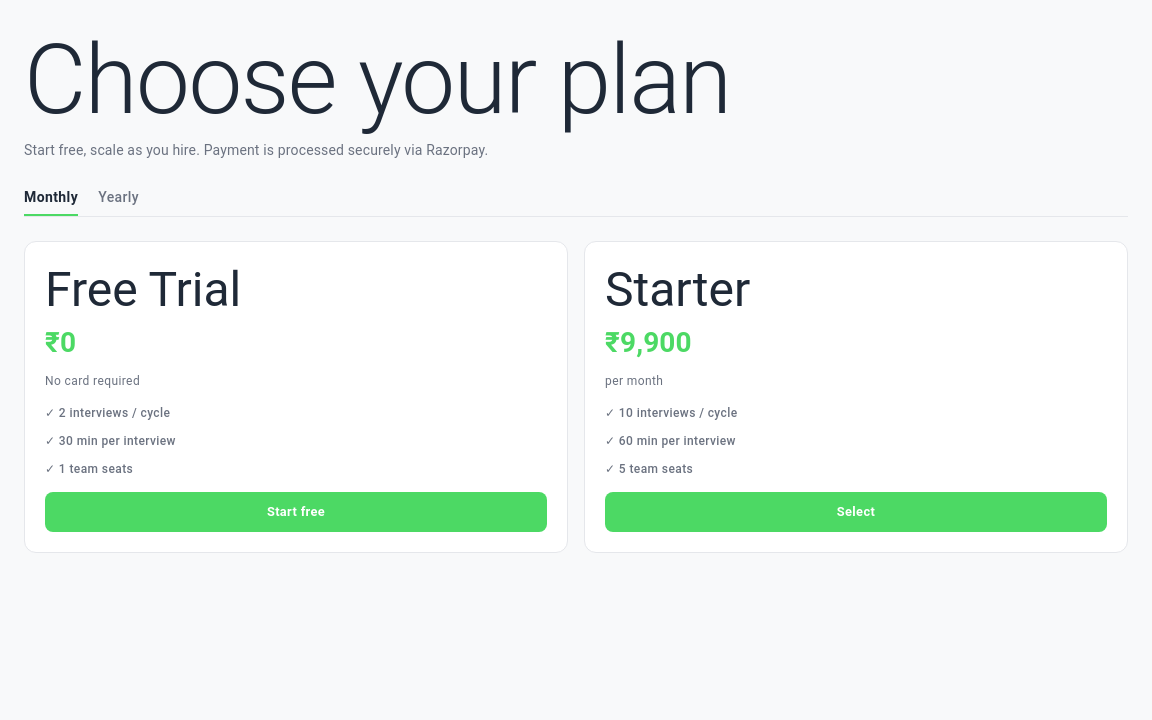
Scenario: PlansPage › switching to the yearly tab shows yearly plans with features
Expected: the heading "Starter" is shown, [605, 262, 750, 318]
Click the tab "Yearly": (119, 198) [98, 180, 139, 216]
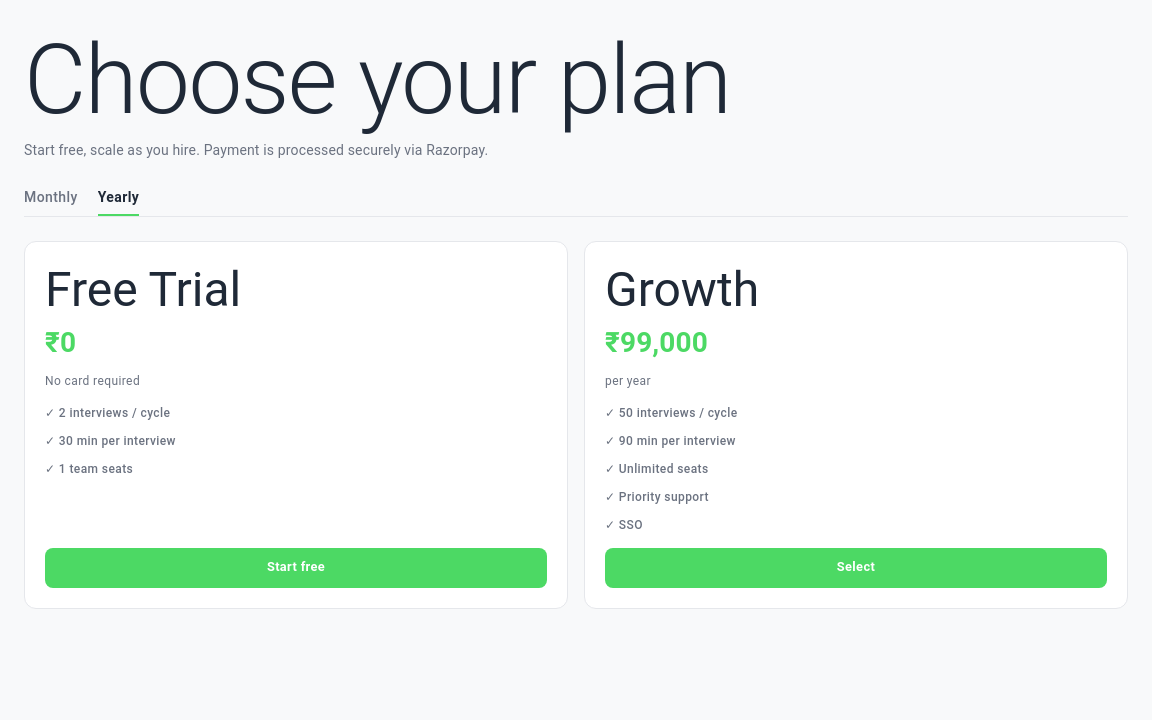
Result: the heading "Growth" is shown at [605, 262, 759, 318]
Result: the text "✓ Priority support" is shown at [605, 490, 709, 504]
Result: the text "✓ Unlimited seats" is shown at [605, 462, 708, 476]
